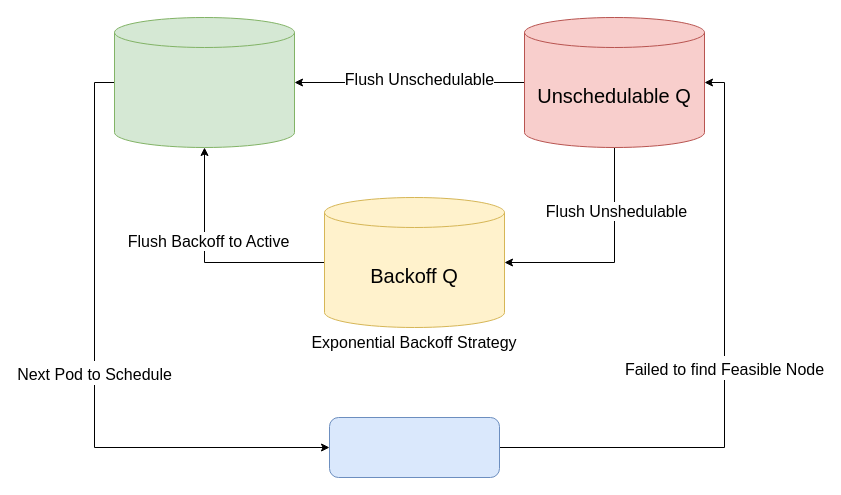
This 841x495 diagram has some shape labels left out. The centre of each missing label's shape, as x and y in pixels:
Active Q: the point at 204,82
ScheduleOne: the point at 414,447
